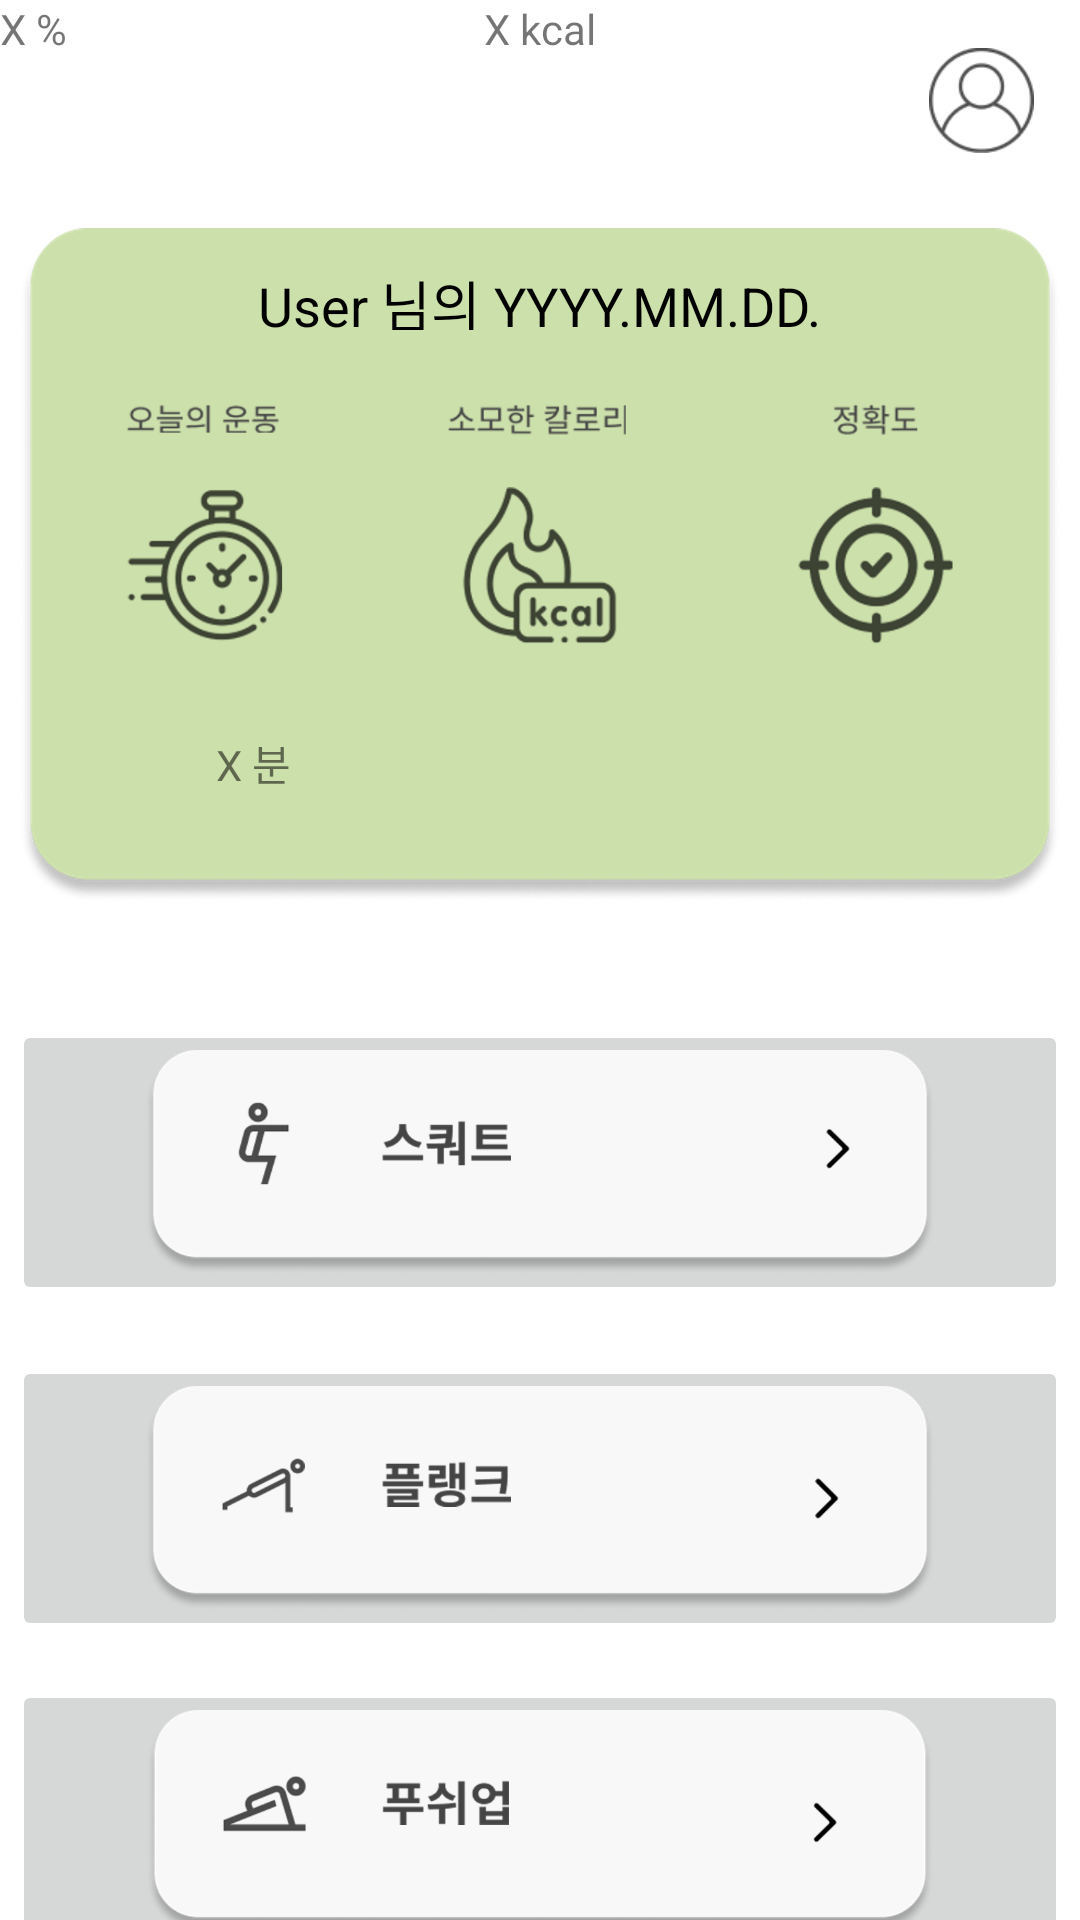

Icon click points for this 1080w x 1920h phone screenshot, format (x=x, y=y):
user simple: (x=981, y=100)
